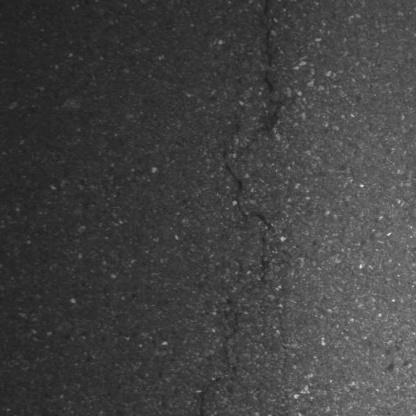Cracks: (196, 307, 246, 416), (219, 145, 277, 230), (257, 0, 281, 99), (252, 100, 283, 144)
